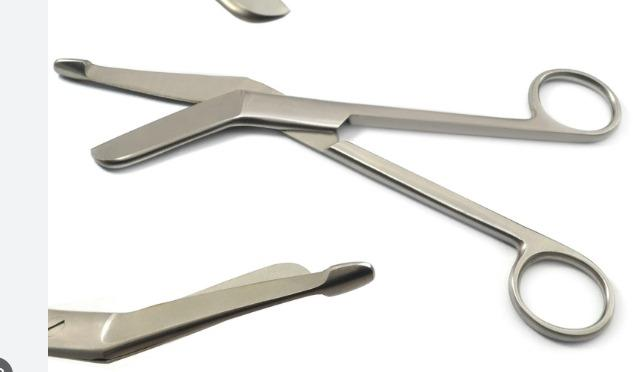Bandage Sciccors: (51, 46, 619, 343)
